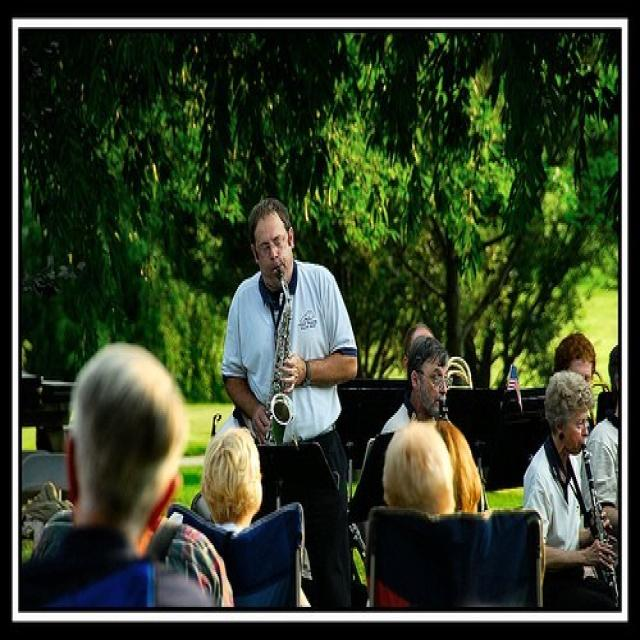clarinet: (579, 444, 620, 600)
saxophone: (258, 275, 298, 441)
